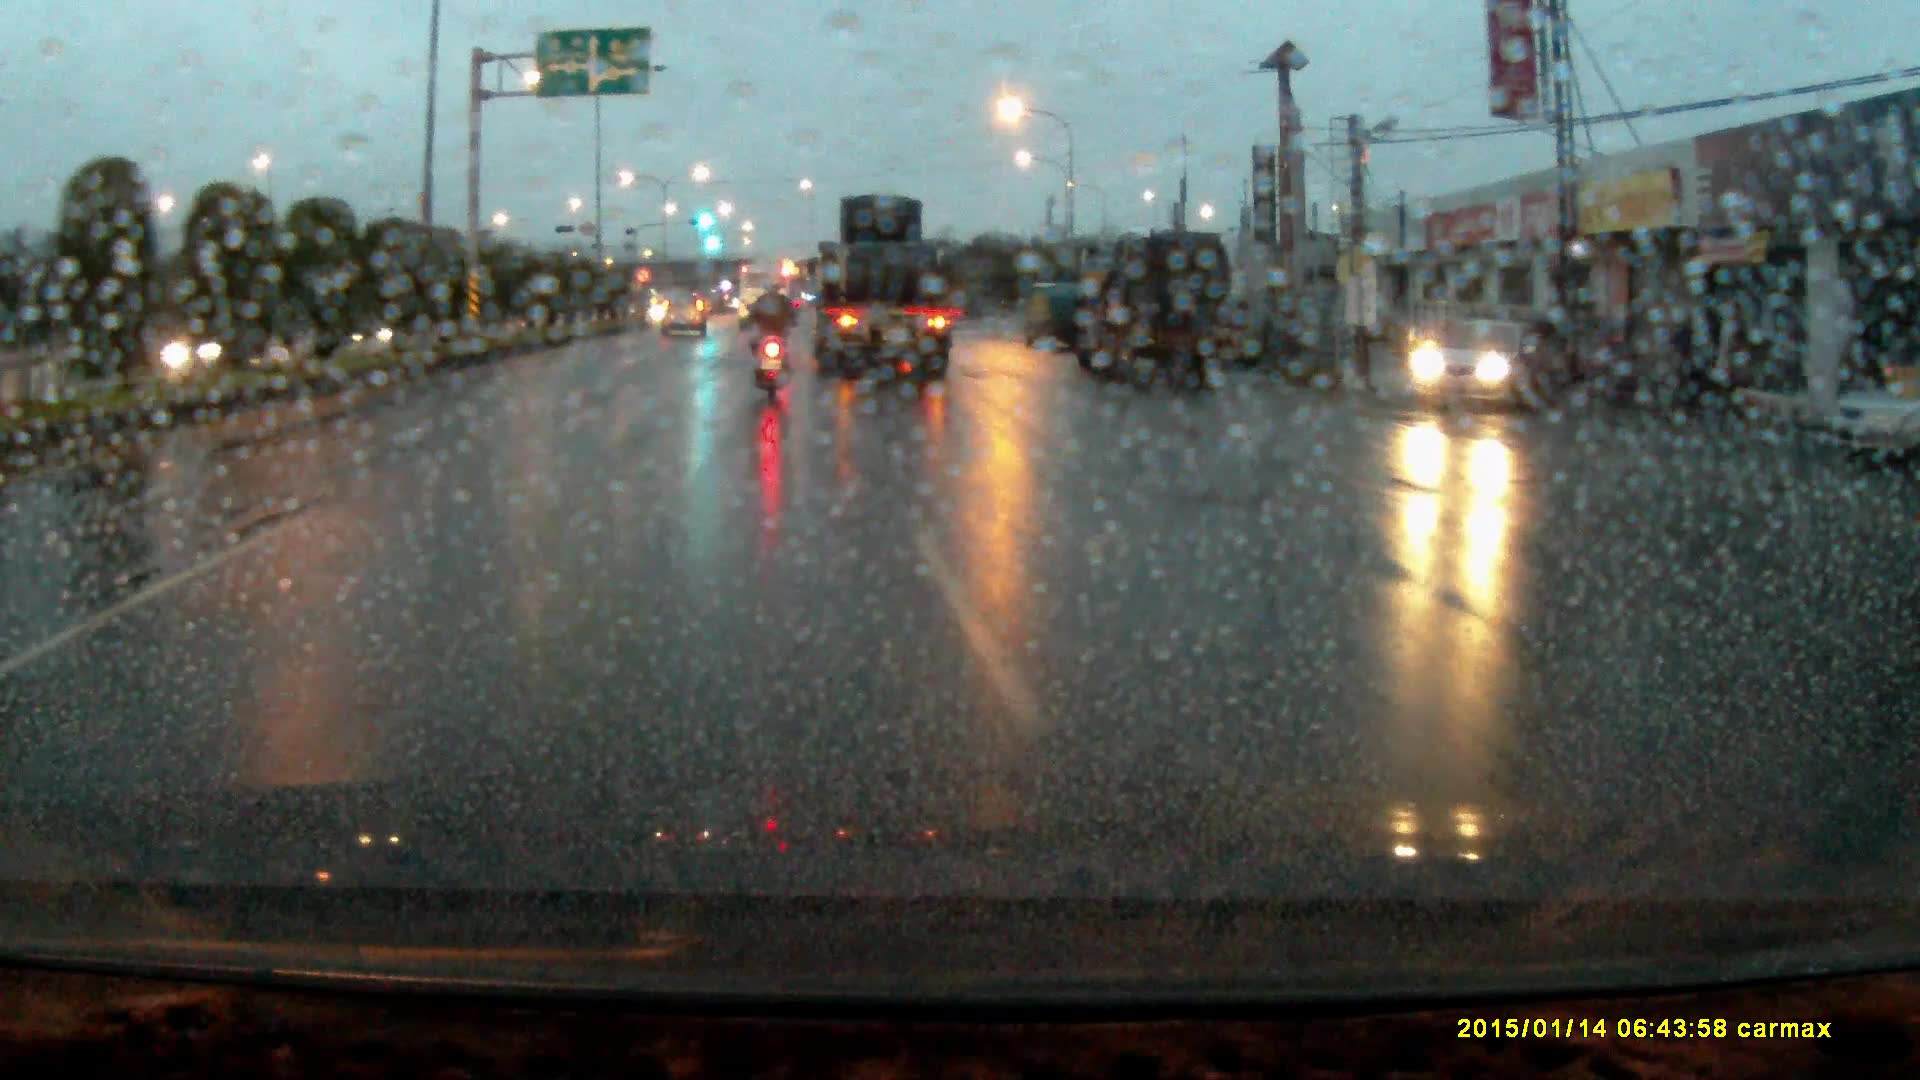rider: (747, 271, 805, 397)
vehicle: (816, 192, 953, 377), (1071, 224, 1228, 385), (1412, 310, 1569, 420), (1827, 365, 1920, 464), (1022, 281, 1085, 348), (739, 262, 792, 321), (661, 290, 710, 336)
